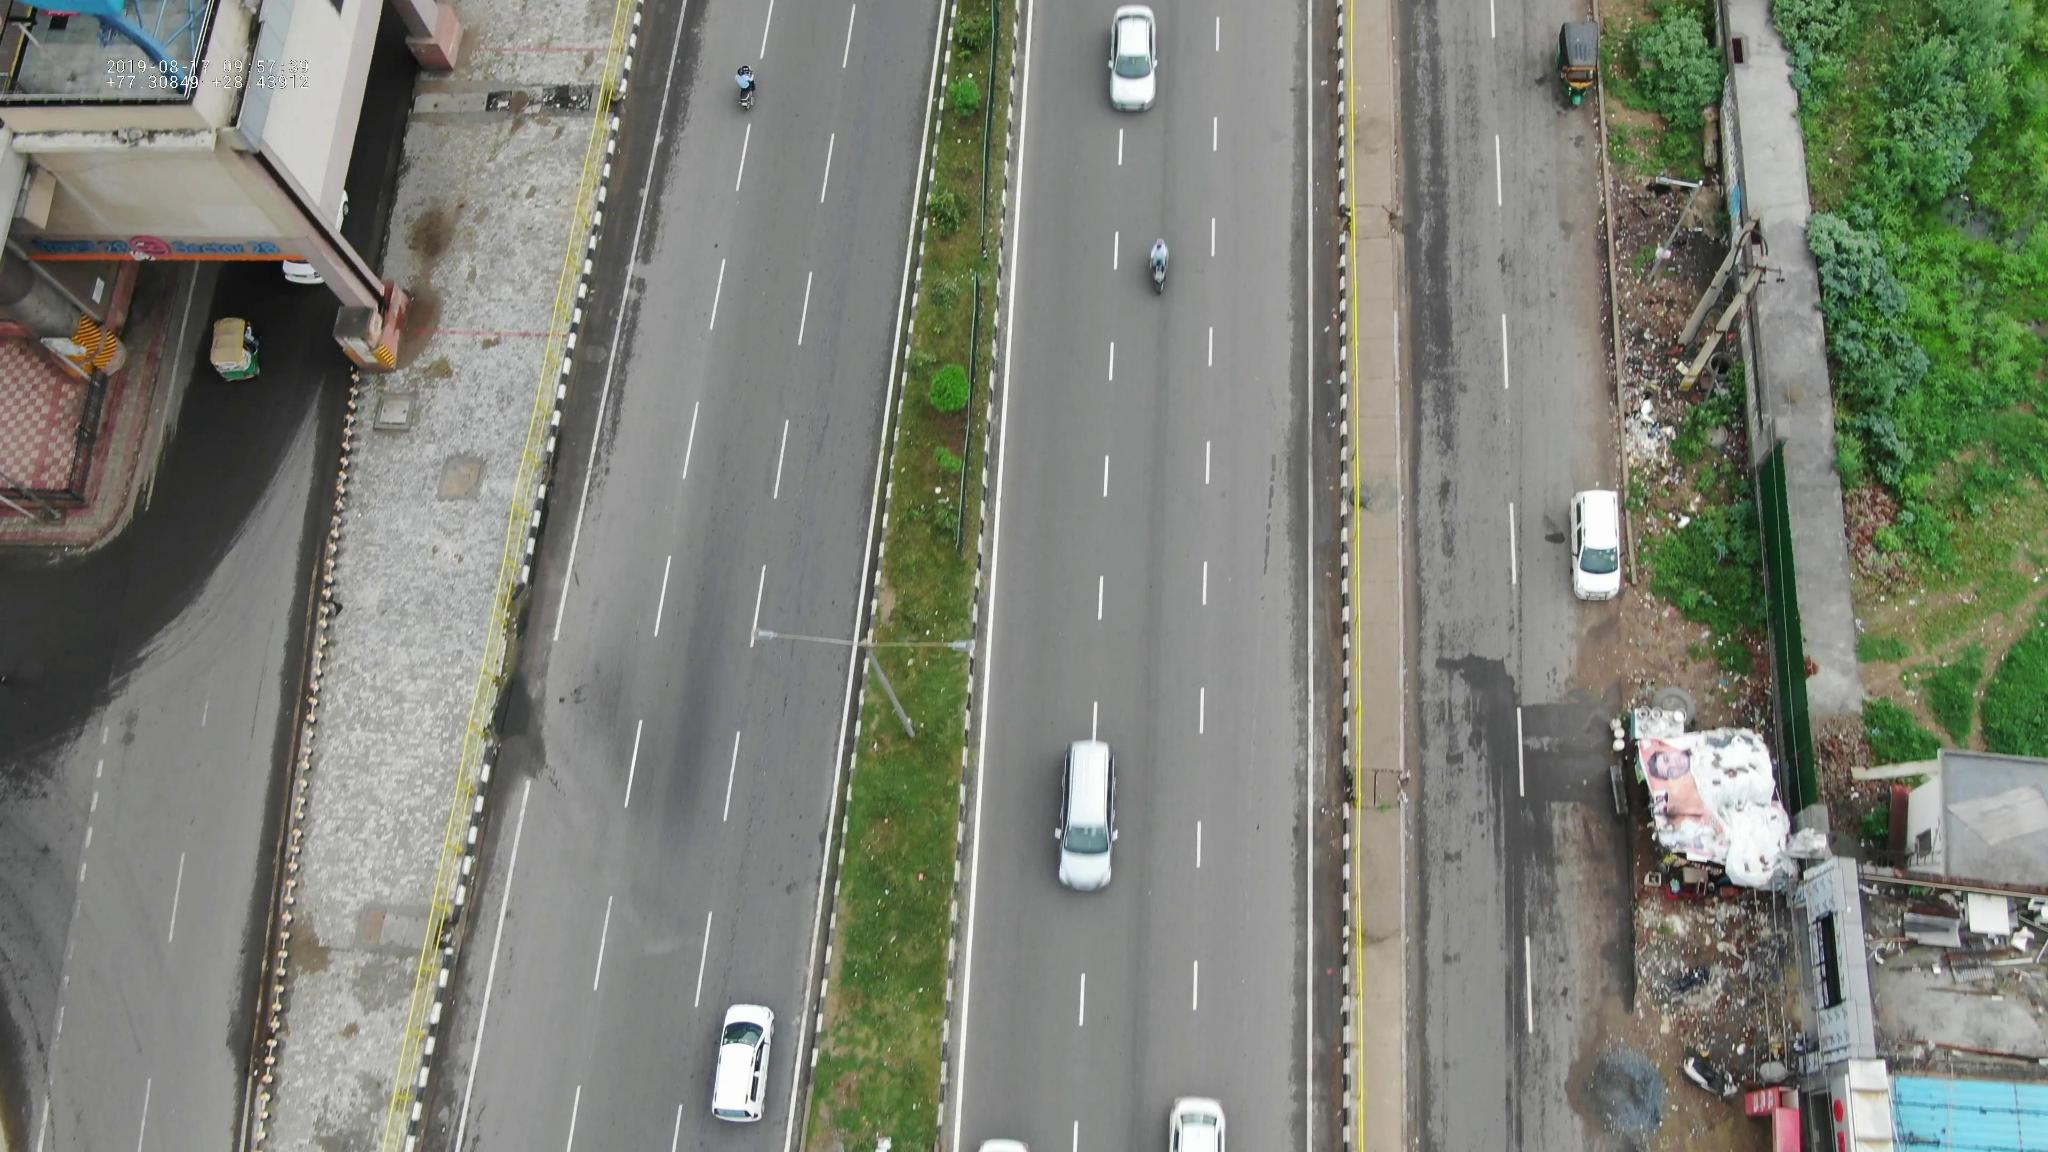Road_side_garbage: (1615, 359, 1699, 502)
